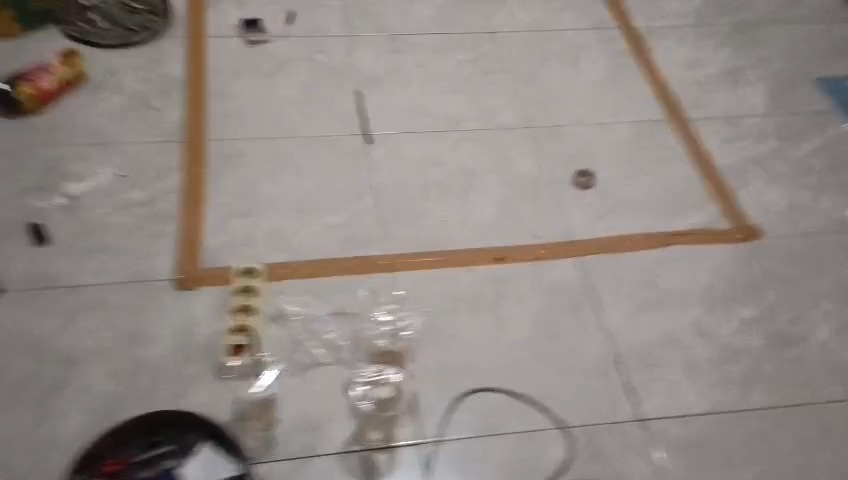floor marking: (268, 0, 763, 281), (175, 0, 229, 290)
